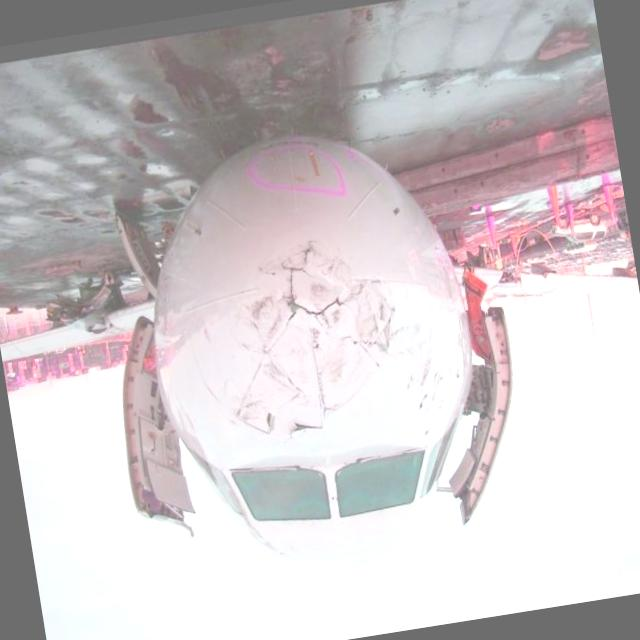crack: (204, 222, 415, 449)
